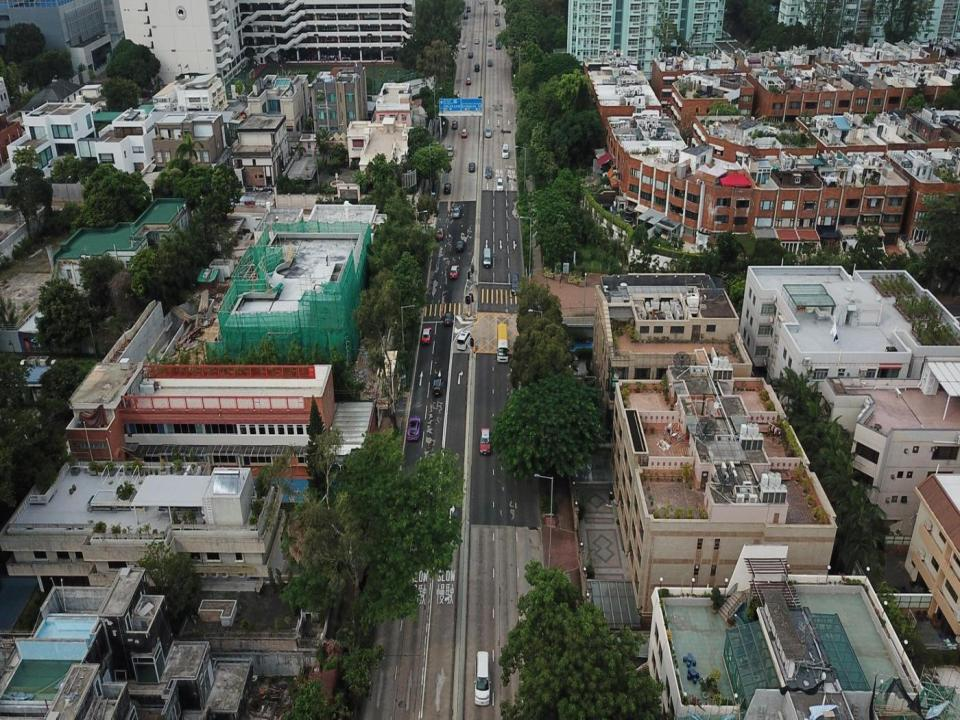bus: (497, 322, 508, 362)
car: (405, 415, 420, 441), (479, 428, 491, 456), (422, 325, 432, 344), (511, 273, 518, 295), (450, 264, 459, 279), (444, 311, 452, 325), (496, 178, 504, 192), (485, 165, 492, 180), (443, 182, 451, 195), (435, 228, 443, 241), (456, 240, 464, 252), (453, 206, 460, 219), (484, 127, 492, 138), (461, 127, 467, 138), (469, 162, 475, 172), (495, 39, 500, 51), (488, 58, 493, 68), (466, 77, 471, 85), (468, 51, 473, 59), (474, 36, 479, 44), (488, 38, 492, 47), (462, 42, 466, 49), (494, 9, 498, 16), (464, 13, 468, 19), (478, 0, 483, 4)
van: (473, 652, 490, 706), (457, 329, 471, 351), (432, 378, 444, 397), (482, 246, 491, 268), (502, 144, 509, 159), (447, 145, 454, 157), (452, 120, 458, 130), (474, 62, 478, 72), (494, 20, 499, 28), (466, 5, 470, 12)
